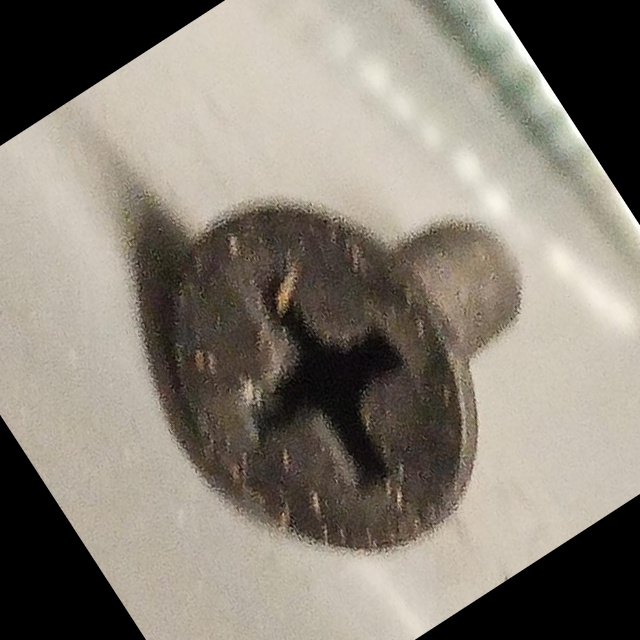phillips: (97, 142, 540, 614)
